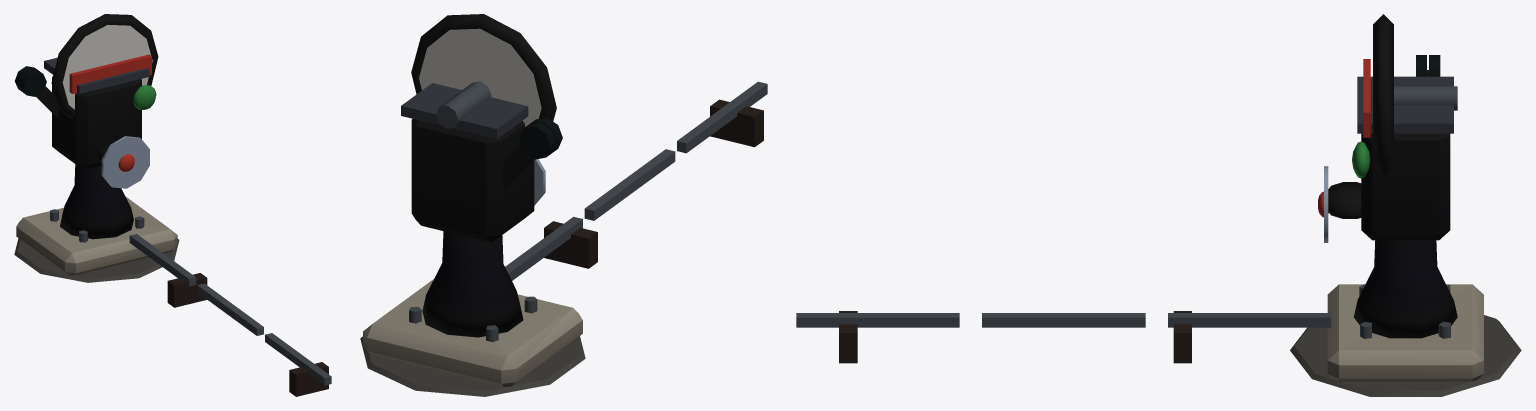
The model's file is signal-shunt-dwarf.glb.
3 renders of one model, left to right at view 1: azimuth 30°, elevation 25°; view 2: azimuth 150°, elevation 25°; view 3: azimuth 270°, elevation 25°, orthographic. The views are drawn at different scales.
Parts seen in each view (by area): view 1: signal_shunt_dwarf; view 2: signal_shunt_dwarf; view 3: signal_shunt_dwarf.
Part boxes in pixels (x1=…): signal_shunt_dwarf: x1=14, y1=14, x2=331, y2=396; signal_shunt_dwarf: x1=360, y1=14, x2=767, y2=396; signal_shunt_dwarf: x1=796, y1=14, x2=1521, y2=396.
Bounding box in the file's own units: 0.5941 × 0.978 × 1.95.
